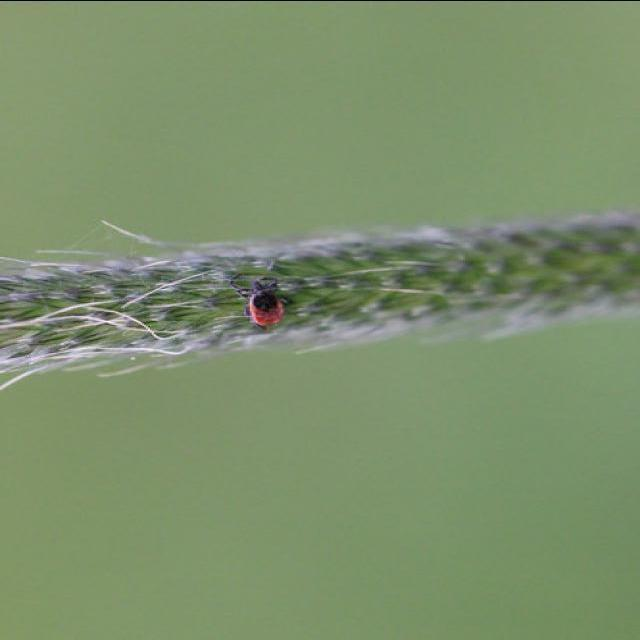Ixodes Ricinus-F: (248, 279, 288, 325), (231, 280, 248, 296)
